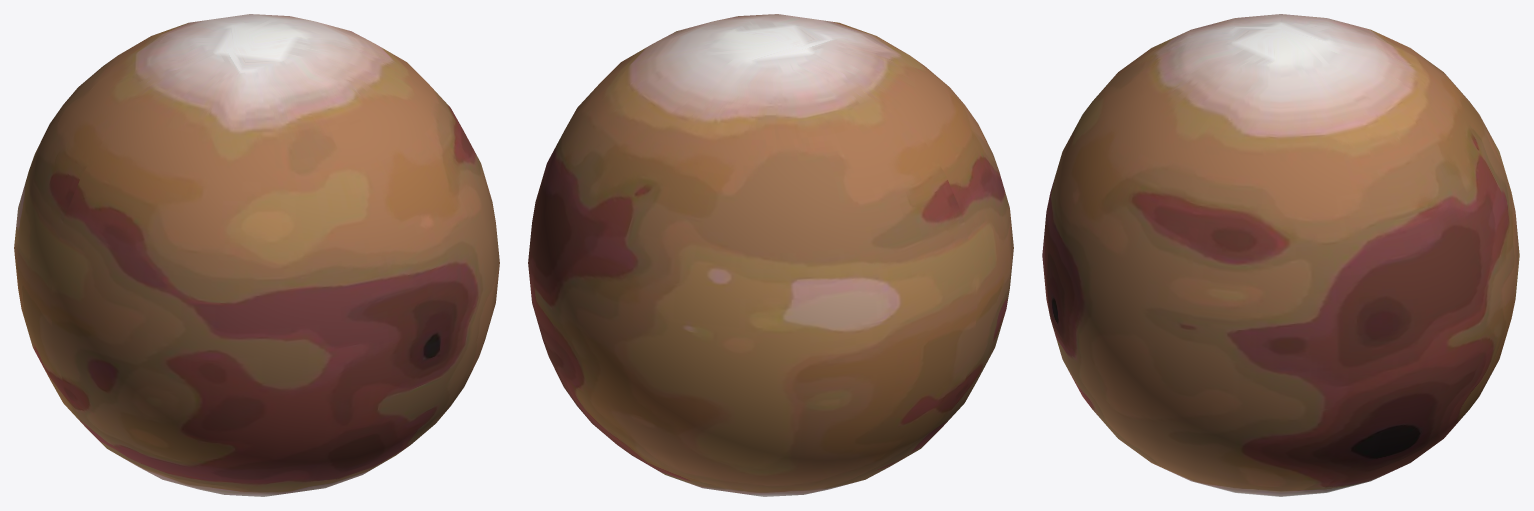
File: planet.glb
3 renders of one model, left to right at view 1: azimuth 30°, elevation 25°; view 2: azimuth 150°, elevation 25°; view 3: azimuth 270°, elevation 25°, orthographic.
Parts seen in each view (by area): view 1: Cube; view 2: Cube; view 3: Cube.
Boxes of the visible parts, x1=… form: Cube: x1=14, y1=14, x2=499, y2=496; Cube: x1=528, y1=14, x2=1013, y2=496; Cube: x1=1042, y1=14, x2=1519, y2=496.
Size of the model in its own units: 1.68 by 1.68 by 1.68.
1 material, 1 textured.
